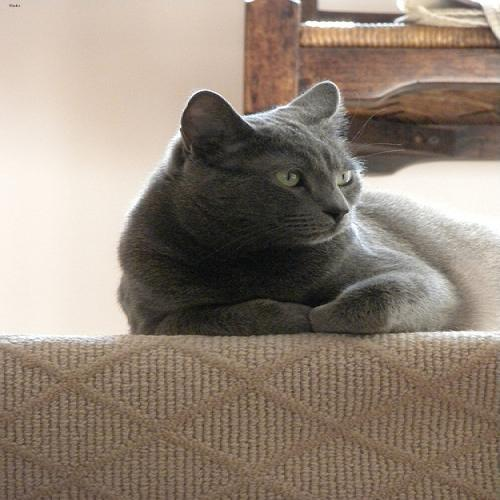rblue: (163, 72, 379, 255)
